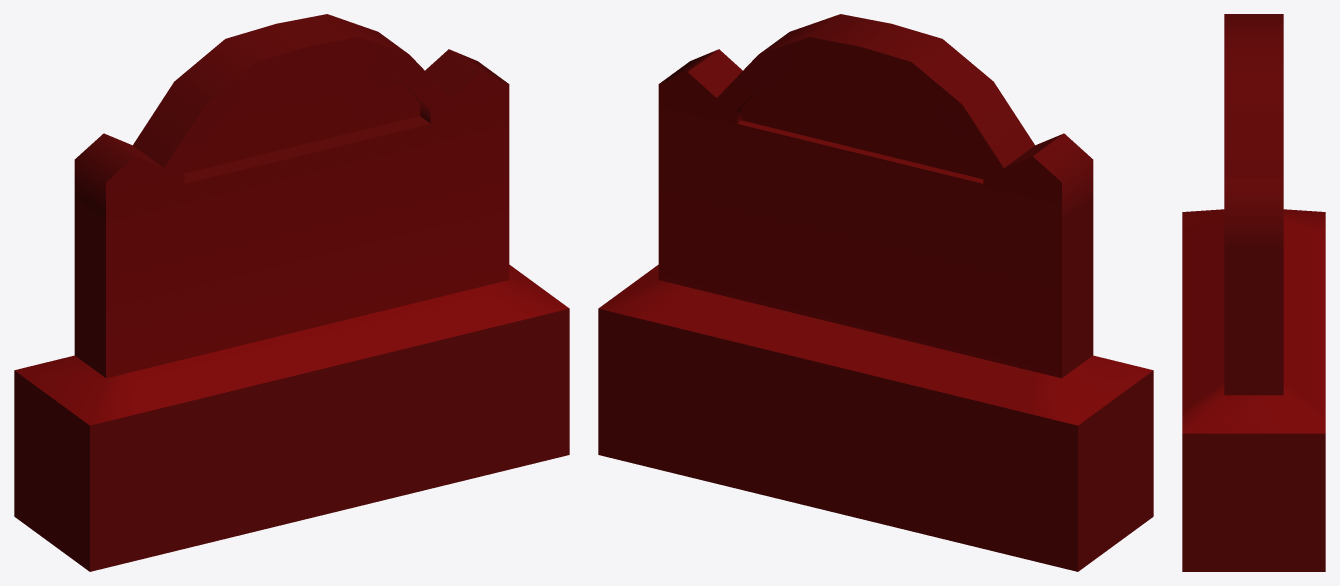
The model's file is geology-carvedstone-gravestone_v6.fbx.
The picture shows the model from 3 angles, left to right: view 1: azimuth 30°, elevation 25°; view 2: azimuth 150°, elevation 25°; view 3: azimuth 270°, elevation 25°; orthographic projection. The views are drawn at different scales.
Visible parts, largest first — view 1: Gravestone_v6; view 2: Gravestone_v6; view 3: Gravestone_v6.
Boxes of the visible parts, left/top/right/bottom form: Gravestone_v6: left=14, top=14, right=569, bottom=571; Gravestone_v6: left=598, top=14, right=1153, bottom=571; Gravestone_v6: left=1182, top=14, right=1325, bottom=571.
Size of the model in its own units: 3.91 by 3.51 by 1.07.
